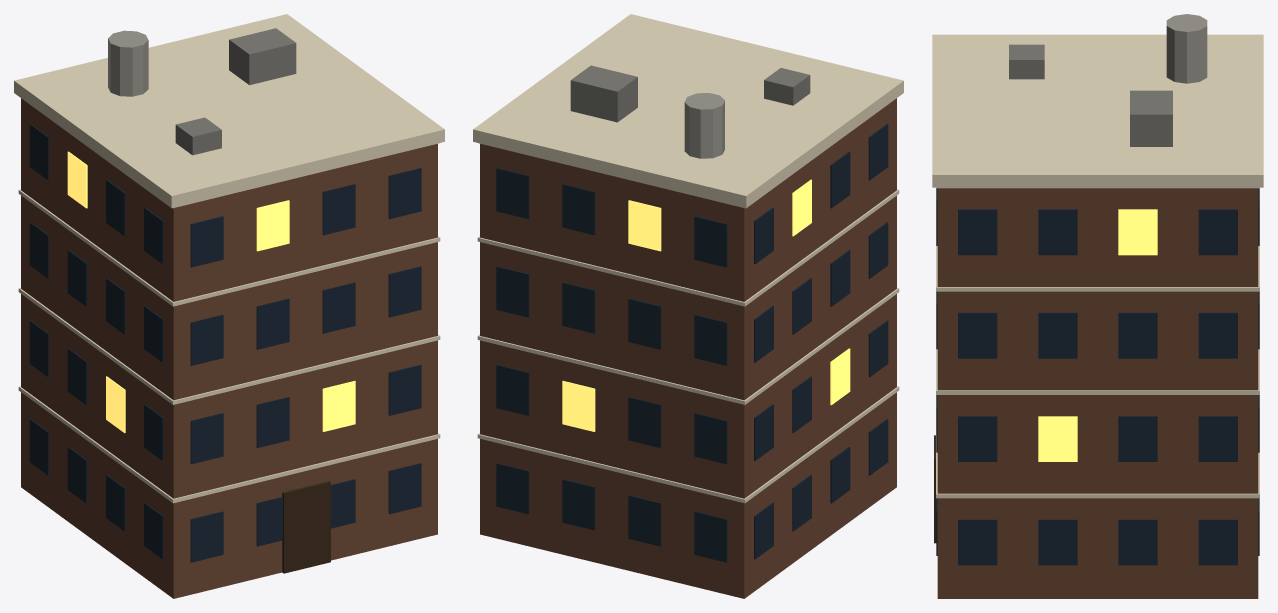
File: building_4.glb
3 renders of one model, left to right at view 1: azimuth 30°, elevation 25°; view 2: azimuth 150°, elevation 25°; view 3: azimuth 270°, elevation 25°, orthographic. The views are drawn at different scales.
Visible parts, largest first — view 1: building_4; view 2: building_4; view 3: building_4.
Boxes of the visible parts, x1,y1,x2,y2 form: building_4: [14, 14, 444, 598]; building_4: [473, 14, 903, 598]; building_4: [932, 14, 1263, 598].
Size of the model in its own units: 9.3 by 14.8 by 9.3.
